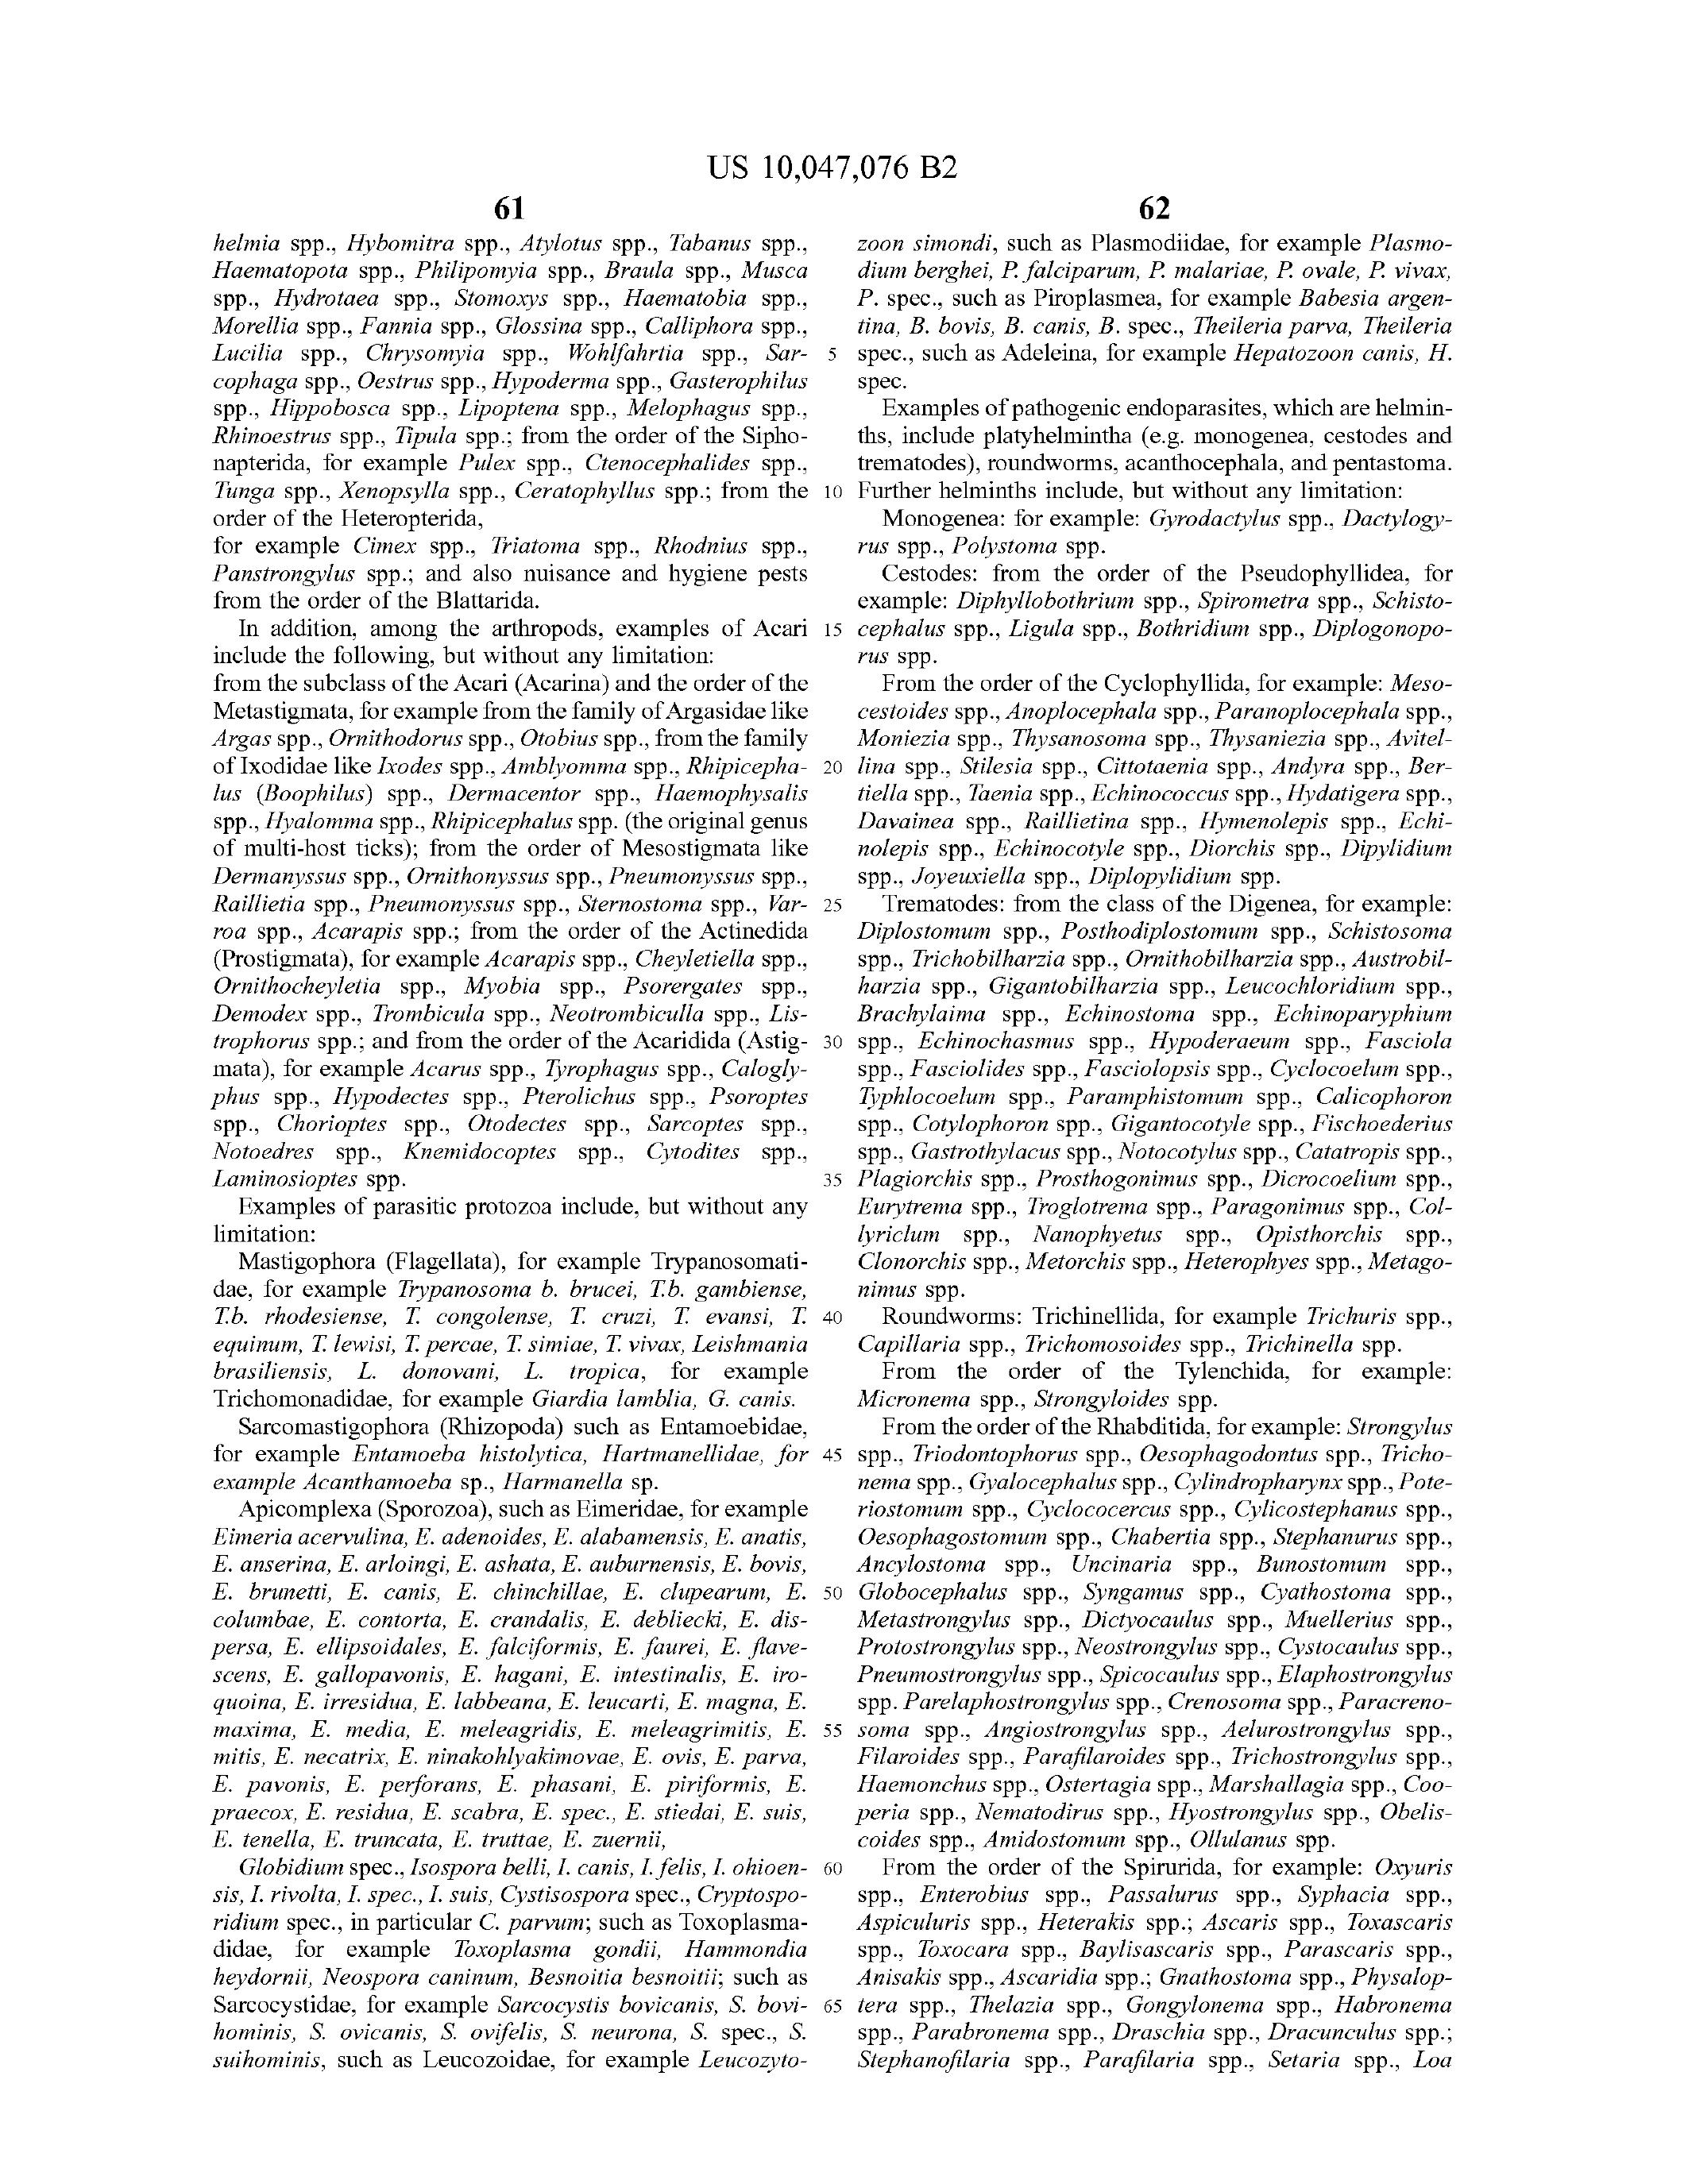substitutes: (206, 1510, 812, 1840)
